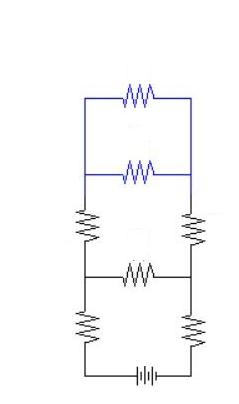resistor: (111, 250, 170, 300), (110, 70, 171, 117), (170, 298, 213, 361), (167, 196, 210, 256), (68, 189, 110, 250), (63, 296, 105, 350), (109, 150, 166, 186)
